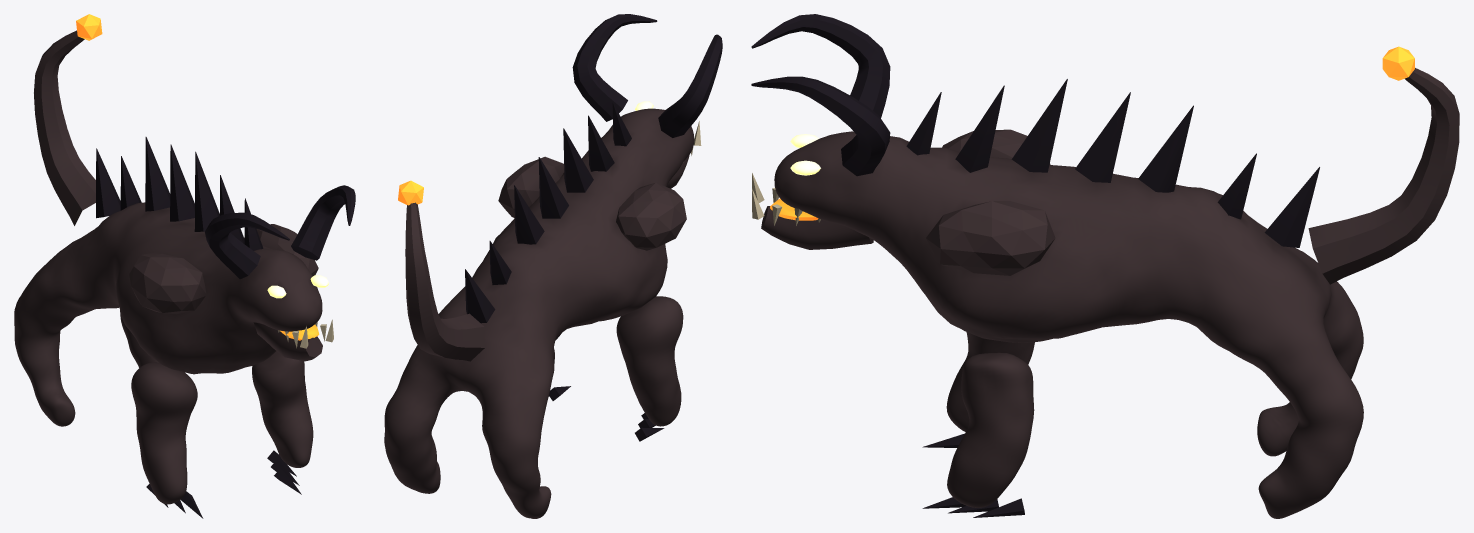
The model's file is lava_hound.glb.
The picture shows the model from 3 angles, left to right: view 1: azimuth 30°, elevation 25°; view 2: azimuth 150°, elevation 25°; view 3: azimuth 270°, elevation 25°; orthographic projection. The views are drawn at different scales.
Visible parts, largest first — view 1: body; view 2: body; view 3: body.
Part boxes in pixels (<box>): body: <box>14,14,355,518</box>; body: <box>384,14,722,518</box>; body: <box>751,14,1459,518</box>.
Bounding box in the file's own units: 0.8001 × 1.59 × 2.25.
